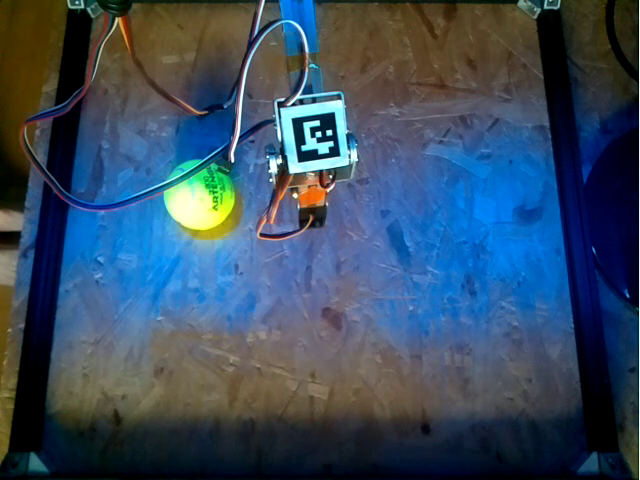tennis_ball: (163, 157, 235, 229)
